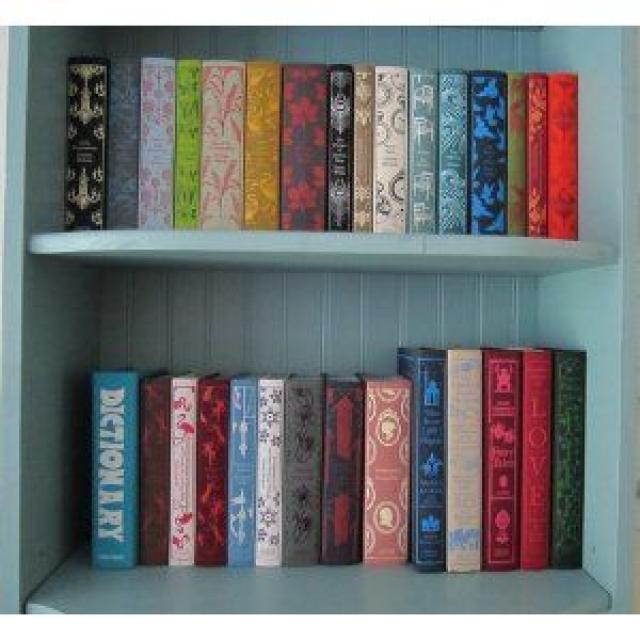book: (94, 374, 136, 568), (366, 379, 407, 564), (484, 348, 518, 570), (448, 351, 481, 571), (201, 60, 244, 228), (414, 353, 447, 571), (282, 64, 324, 229), (324, 381, 361, 564), (522, 350, 552, 569), (556, 352, 586, 569), (284, 380, 319, 565), (67, 55, 103, 228), (140, 56, 174, 228), (245, 61, 278, 230), (138, 379, 168, 564), (470, 70, 504, 232), (197, 381, 226, 566), (374, 66, 406, 232), (107, 57, 138, 228), (547, 75, 577, 237), (228, 380, 254, 565), (257, 381, 283, 564), (439, 70, 466, 233), (174, 59, 200, 228), (410, 67, 436, 232), (170, 381, 192, 563), (328, 65, 350, 231), (506, 70, 527, 233), (354, 65, 372, 231), (528, 72, 546, 235)
